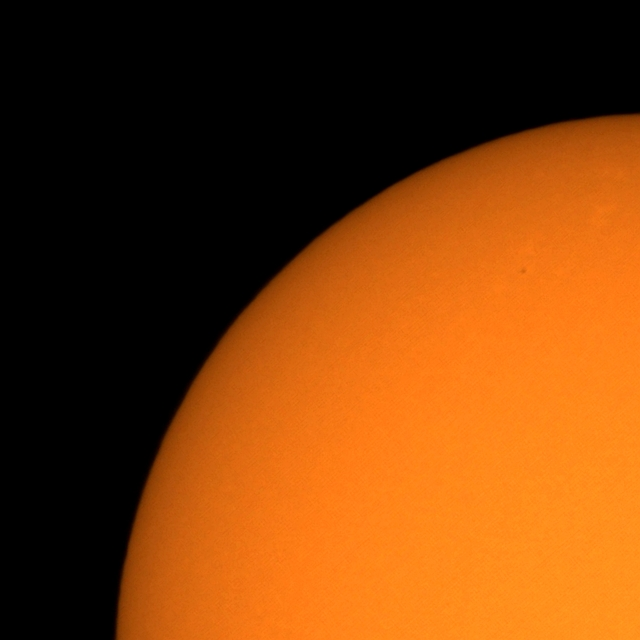sunspot: (518, 267, 528, 276)
